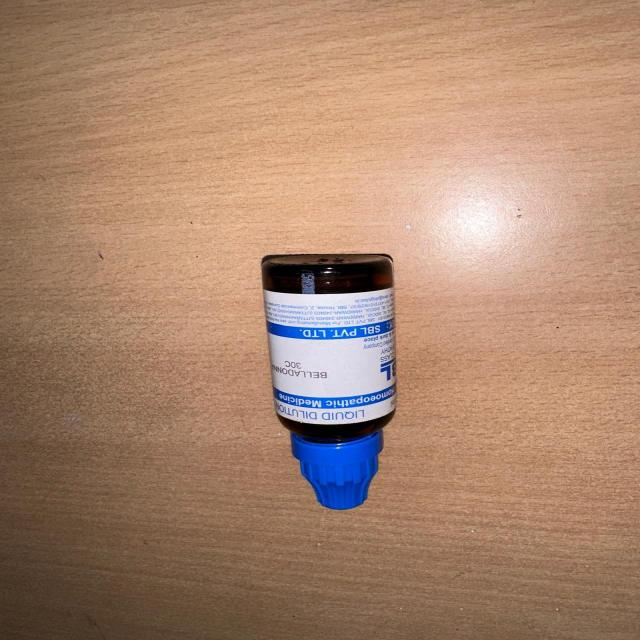medicine: (244, 233, 424, 515)
